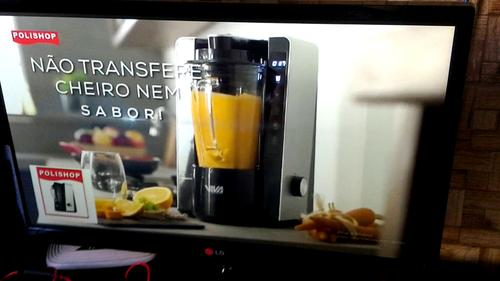Polishop #1: (28, 165, 98, 225)
